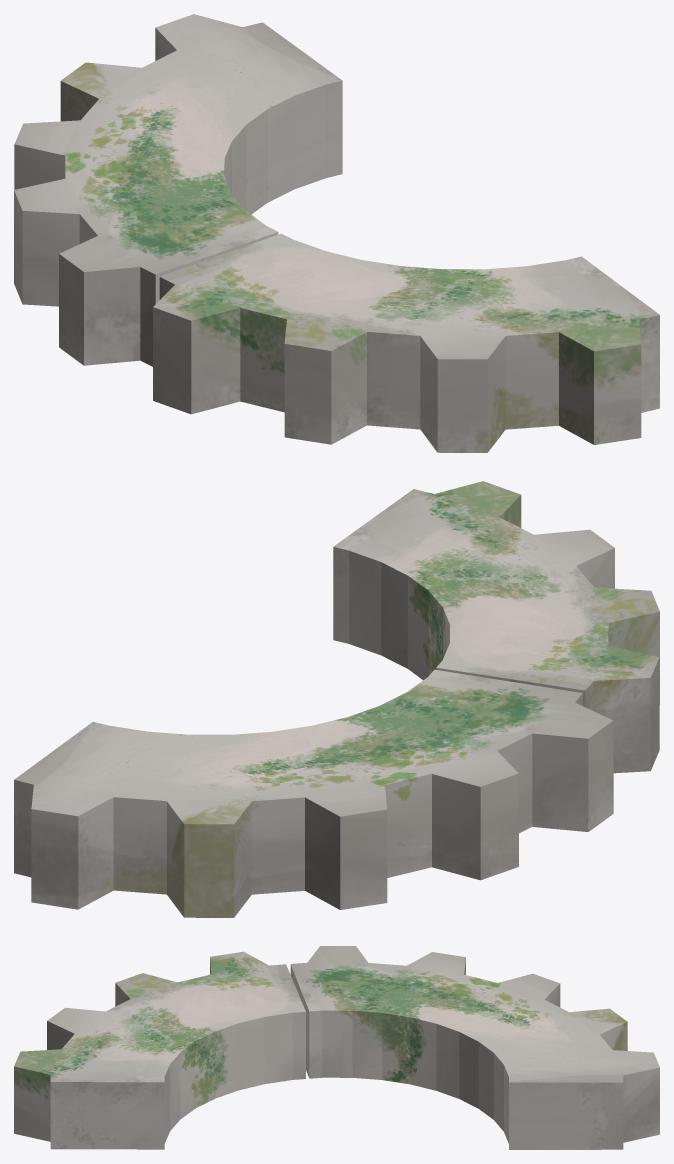
The model's file is newHalfGear2.dae.
The picture shows the model from 3 angles, top to bottom: view 1: azimuth 30°, elevation 25°; view 2: azimuth 150°, elevation 25°; view 3: azimuth 270°, elevation 25°; orthographic projection. The views are drawn at different scales.
Parts seen in each view (by area): view 1: Circle; view 2: Circle; view 3: Circle.
Part boxes in pixels (<box>): Circle: <box>14,14,659,452</box>; Circle: <box>14,481,659,917</box>; Circle: <box>14,946,659,1149</box>.
Bounding box in the file's own units: 1.27 × 2.54 × 0.2918.
1 material, 1 textured.
